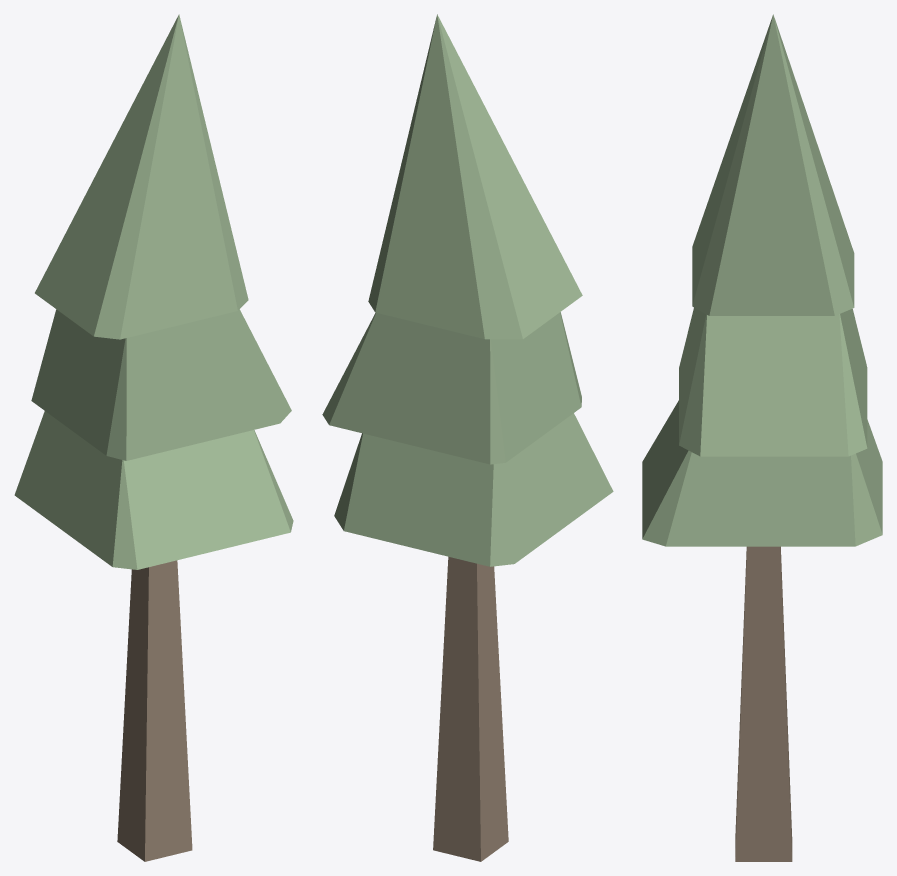
Rendered from tree_pineTallA.glb.
The picture shows the model from 3 angles, left to right: view 1: azimuth 30°, elevation 25°; view 2: azimuth 150°, elevation 25°; view 3: azimuth 270°, elevation 25°; orthographic projection. The views are drawn at different scales.
Visible parts, largest first — view 1: tree_pineTallA; view 2: tree_pineTallA; view 3: tree_pineTallA.
Part boxes in pixels (x1,y1,x2,y2): tree_pineTallA: (14, 14, 293, 861); tree_pineTallA: (322, 14, 613, 861); tree_pineTallA: (642, 14, 882, 861).
Bounding box in the file's own units: 3.03 × 12 × 3.07.
